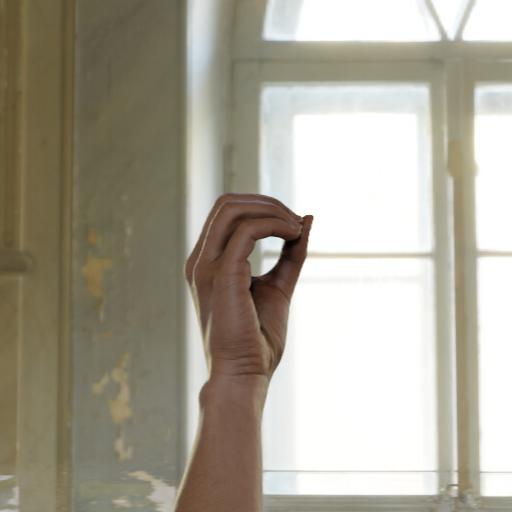O: (154, 166, 391, 441)
